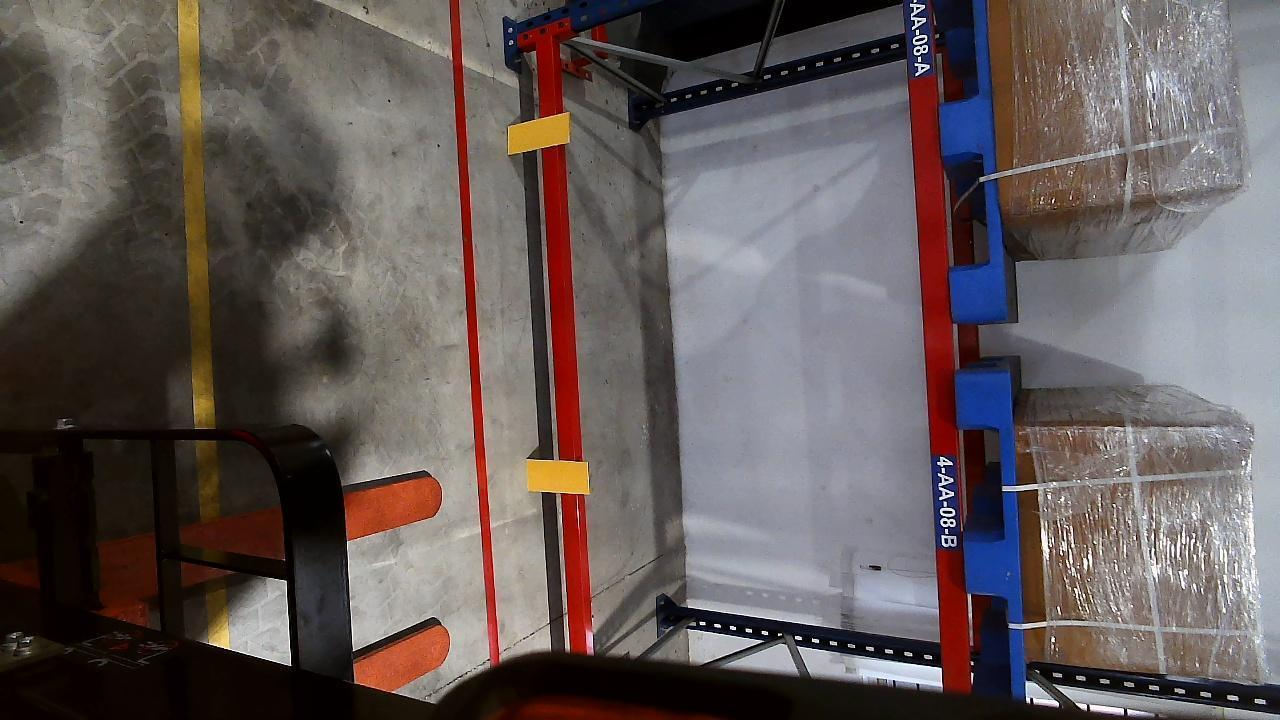red_line: (449, 0, 503, 661)
yellow_line: (175, 2, 217, 429)
